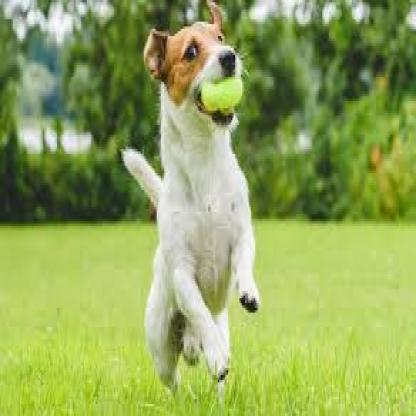dog: (119, 5, 260, 397)
